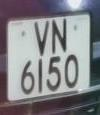0: (63, 51, 82, 94)
1: (36, 56, 47, 98)
5: (45, 54, 64, 95)
6: (19, 57, 39, 100)
N: (51, 13, 69, 60)
V: (32, 16, 51, 61)
